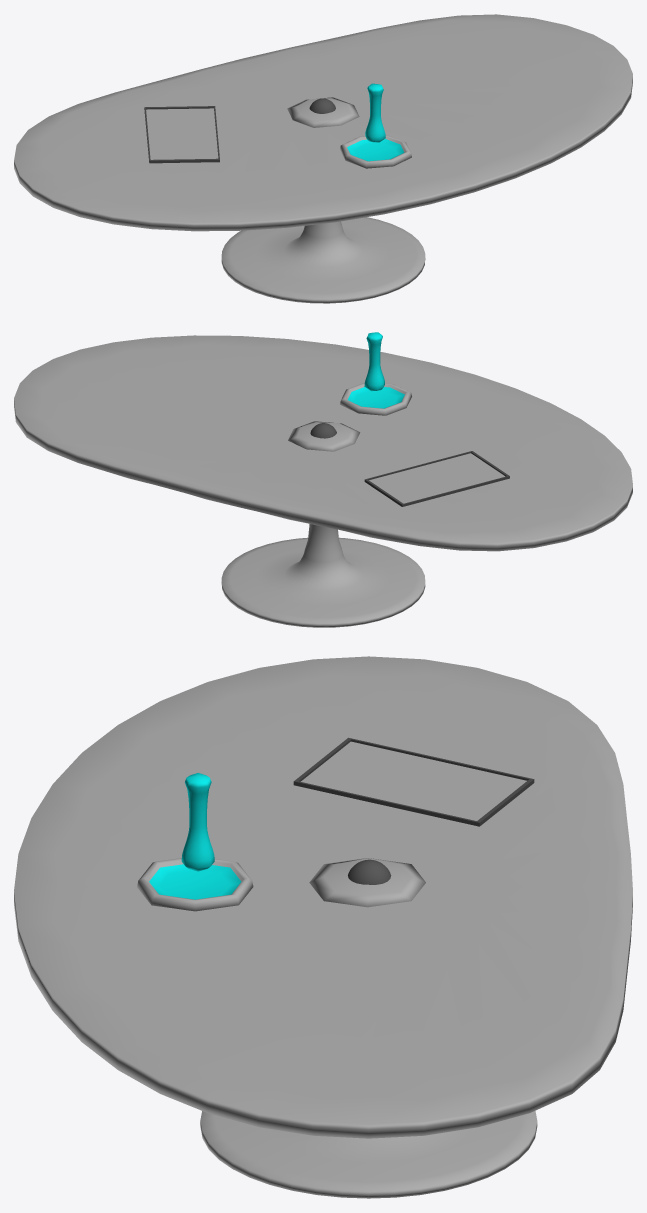
The model's file is ControlTable.fbx.
The picture shows the model from 3 angles, top to bottom: view 1: azimuth 30°, elevation 25°; view 2: azimuth 150°, elevation 25°; view 3: azimuth 270°, elevation 25°; orthographic projection. The views are drawn at different scales.
Parts seen in each view (by area): view 1: ControlTable, Screen, Hologram1, Button; view 2: ControlTable, Screen, Hologram1, Button; view 3: ControlTable, Screen, Hologram1, Button.
Boxes of the visible parts, x1,y1,x2,y2 form: ControlTable: (14, 14, 632, 303); Screen: (144, 106, 219, 163); Hologram1: (340, 83, 411, 168); Button: (287, 97, 359, 127); ControlTable: (14, 335, 632, 627); Screen: (364, 451, 509, 506); Hologram1: (340, 332, 411, 415); Button: (288, 421, 360, 451); ControlTable: (14, 656, 632, 1198); Screen: (293, 737, 534, 826); Hologram1: (137, 773, 253, 911); Button: (309, 858, 425, 907).
Bounding box in the file's own units: 9.47 × 3.36 × 5.29.
